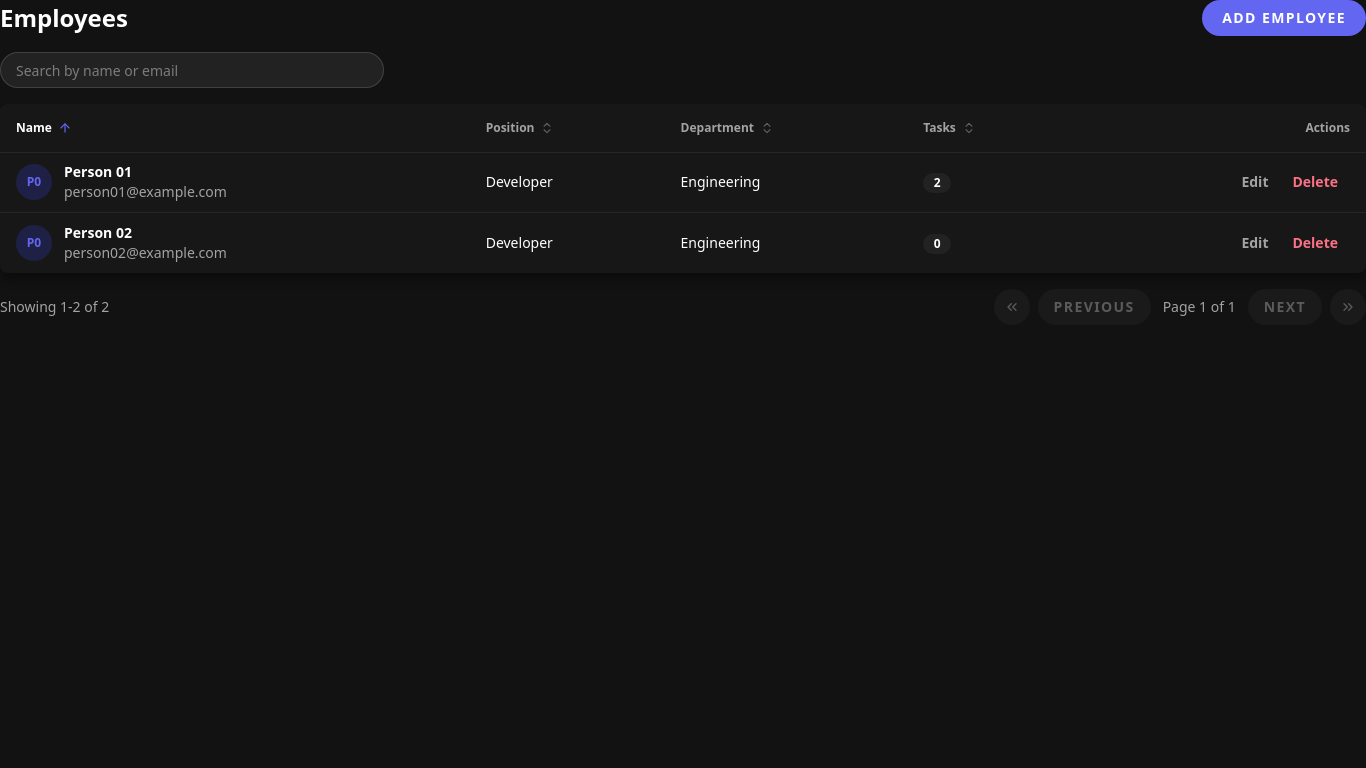
Test case: EmployeesPage: deleting › deletes after confirmation and removes the row
Click the button with aria-label "Delete Person 01" at (1315, 182), box x1=1280 y1=168 x2=1350 y2=196
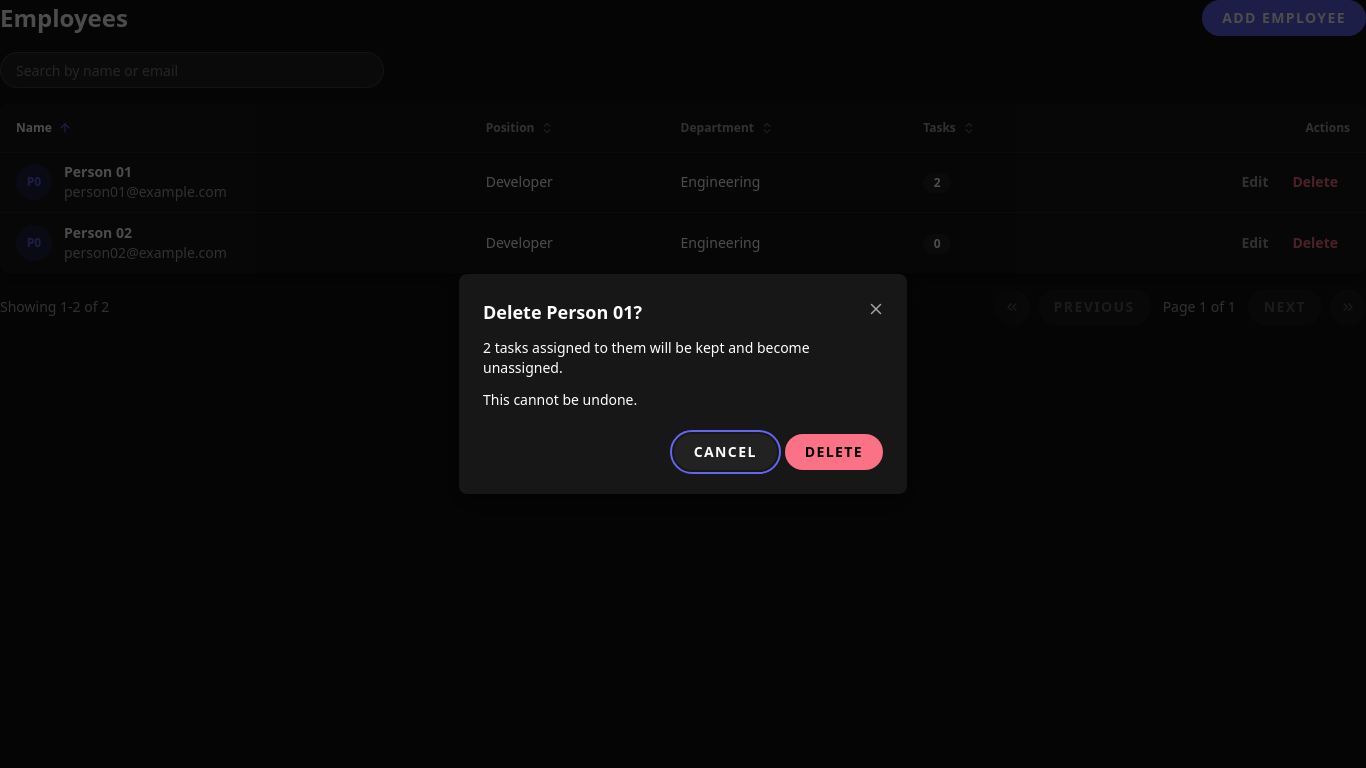
Click the button "Delete" at (834, 452), box x1=785 y1=434 x2=883 y2=470
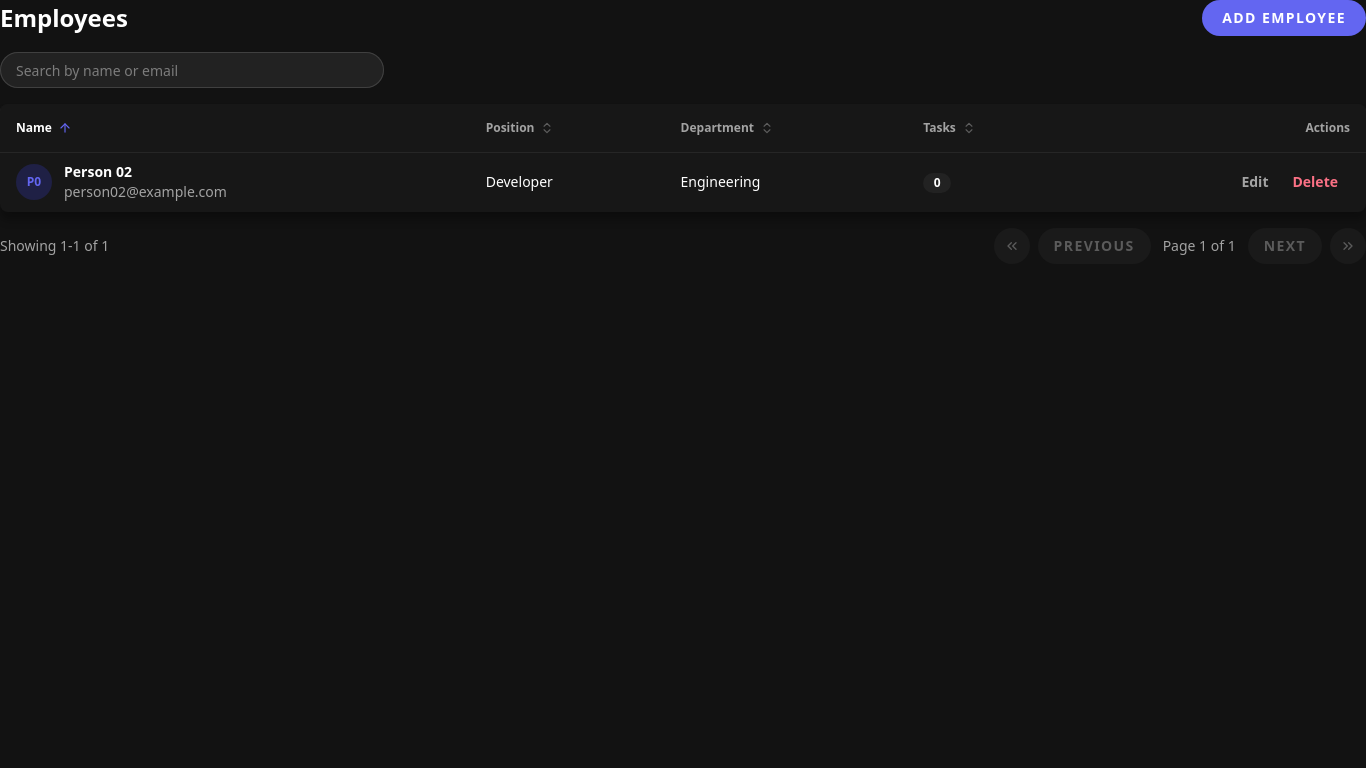
Expected: the text "Person 02" is shown, x1=64 y1=162 x2=132 y2=181
Expected: the text "Person 01" is gone
Expected: the dialog is gone
